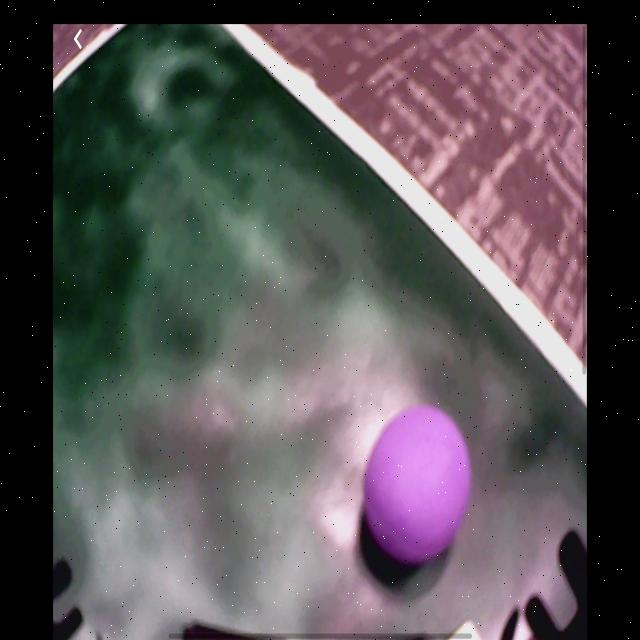ball: (365, 406, 473, 566)
